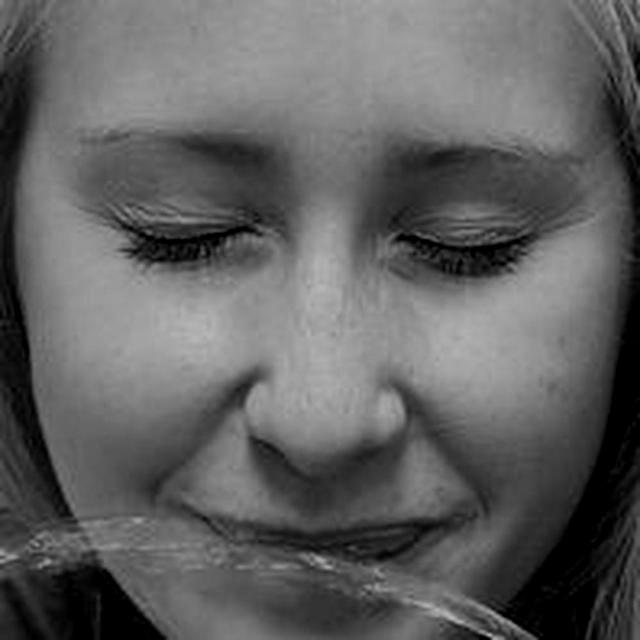real: (14, 0, 640, 640), (90, 161, 580, 288)
